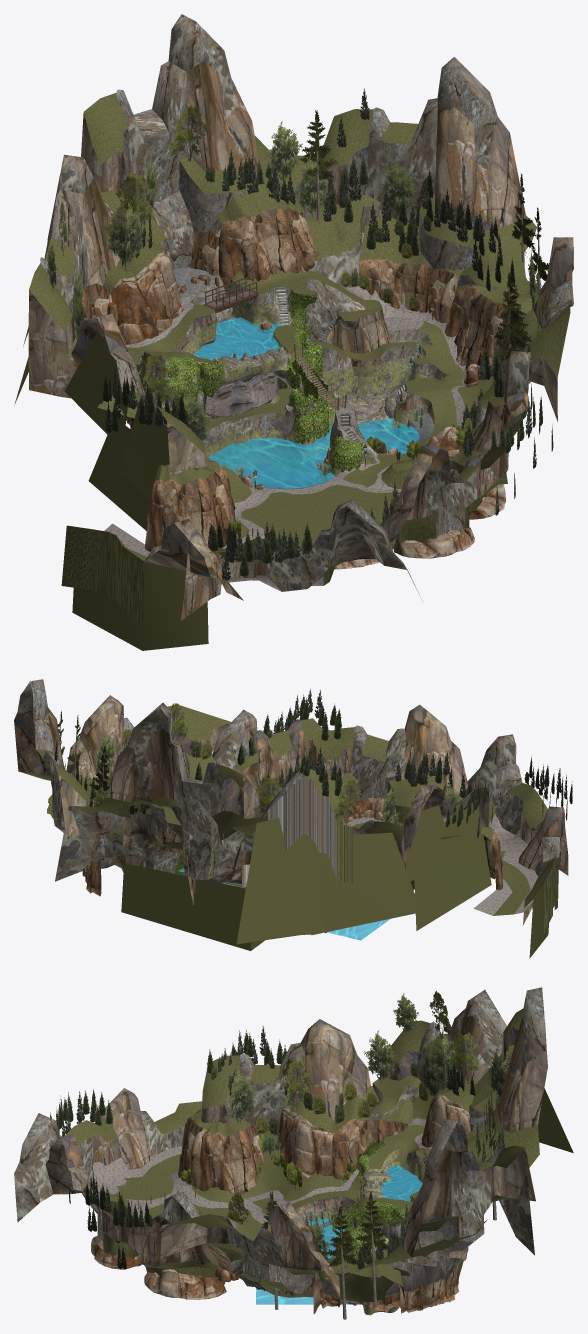
Rendered from creek_falls_world_maps.glb.
3 renders of one model, top to bottom at view 1: azimuth 30°, elevation 25°; view 2: azimuth 150°, elevation 25°; view 3: azimuth 270°, elevation 25°, orthographic. The views are drawn at different scales.
Parts seen in each view (by area): view 1: mesh_13_12.nr, mesh_12_11.nr, mesh_29_28.nr, mesh_21_20.nr, mesh_6_5.nr, mesh_61_60.nr, mesh_17_16.nr, mesh_3_2.nr, mesh_66_65.nr, mesh_16_15.nr, mesh_24_23.nr, mesh_9_8.nr (+20 smaller); view 2: mesh_21_20.nr, mesh_12_11.nr, mesh_13_12.nr, mesh_29_28.nr, mesh_61_60.nr, mesh_16_15.nr, mesh_27_26.nr, mesh_6_5.nr, mesh_65_64.nr, mesh_66_65.nr, mesh_3_2.nr, mesh_24_23.nr (+4 smaller); view 3: mesh_13_12.nr, mesh_12_11.nr, mesh_29_28.nr, mesh_6_5.nr, mesh_3_2.nr, mesh_61_60.nr, mesh_21_20.nr, mesh_27_26.nr, mesh_66_65.nr, mesh_9_8.nr, mesh_65_64.nr, mesh_56_55.nr (+13 smaller).
Part boxes in pixels (x1,y1,x2,y2): mesh_13_12.nr: (28,61,573,620); mesh_12_11.nr: (40,14,573,602); mesh_29_28.nr: (29,93,573,624); mesh_21_20.nr: (14,269,465,650); mesh_6_5.nr: (82,207,507,551); mesh_61_60.nr: (102,88,553,580); mesh_17_16.nr: (180,284,427,476); mesh_3_2.nr: (107,248,505,569); mesh_66_65.nr: (47,121,536,440); mesh_16_15.nr: (134,109,388,434); mesh_24_23.nr: (173,279,446,448); mesh_9_8.nr: (97,179,540,484); mesh_21_20.nr: (121,804,550,958); mesh_12_11.nr: (17,679,559,881); mesh_13_12.nr: (14,695,568,925); mesh_29_28.nr: (19,705,563,932); mesh_61_60.nr: (54,688,572,837); mesh_16_15.nr: (181,778,242,884); mesh_27_26.nr: (56,814,538,915); mesh_6_5.nr: (82,796,502,932); mesh_65_64.nr: (117,703,417,825); mesh_66_65.nr: (91,731,460,837); mesh_3_2.nr: (231,797,414,884); mesh_24_23.nr: (115,847,179,873); mesh_13_12.nr: (45,1016,547,1298); mesh_12_11.nr: (14,987,546,1294); mesh_29_28.nr: (64,1008,539,1302); mesh_6_5.nr: (178,1083,468,1313); mesh_3_2.nr: (91,1091,471,1303); mesh_61_60.nr: (50,1026,504,1291); mesh_21_20.nr: (114,1082,573,1276); mesh_27_26.nr: (89,1108,477,1303); mesh_66_65.nr: (227,993,506,1274); mesh_9_8.nr: (190,1083,508,1285); mesh_65_64.nr: (225,991,514,1275); mesh_56_55.nr: (331,1142,408,1257).
Bounding box in the file's own units: 85.13 × 56.63 × 89.04.
43 materials, 42 textured.
